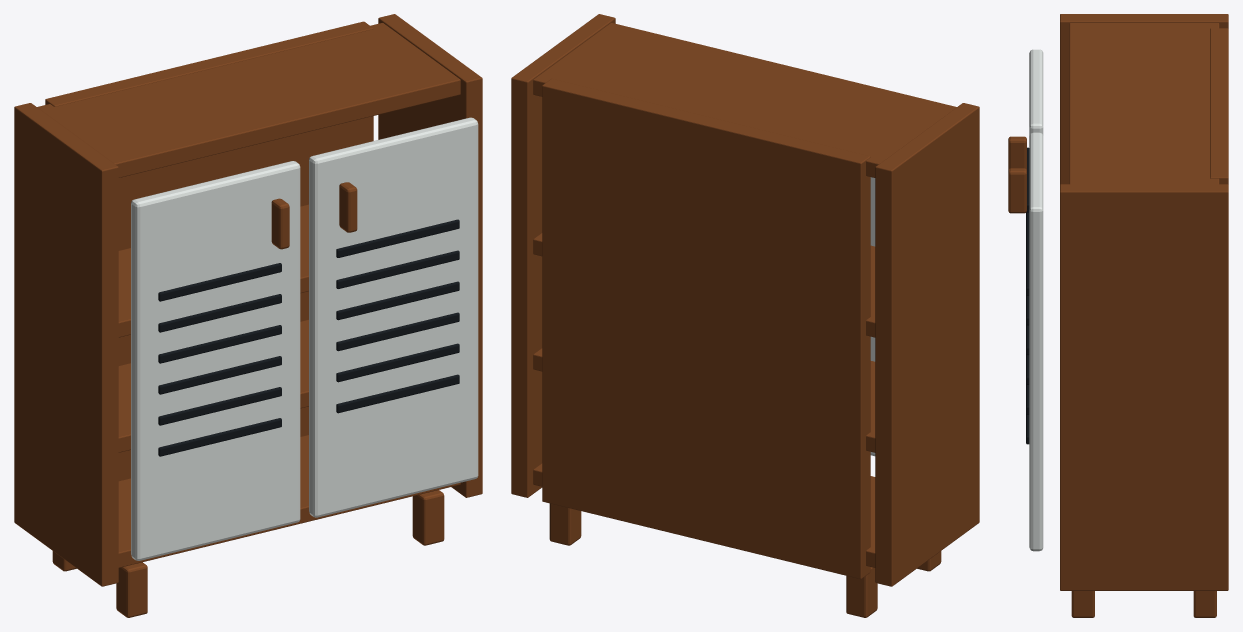
Rendered from edited.glb.
The picture shows the model from 3 angles, left to right: view 1: azimuth 30°, elevation 25°; view 2: azimuth 150°, elevation 25°; view 3: azimuth 270°, elevation 25°; orthographic projection. The views are drawn at different scales.
Visible parts, largest first — view 1: DOOR_Frame.001, DOOR_Frame, BODY_Side.001, BODY_Shelf, BODY_Back, BODY_Side, BODY_Shelf.001, BODY_Shelf.002, BODY_Shelf.003, FOOT.002, FOOT, VENT_Inset.002 (+13 smaller); view 2: BODY_Back, BODY_Side.001, BODY_Shelf, BODY_Side, FOOT.001, FOOT.003, BODY_Shelf.001, BODY_Shelf.002, BODY_Shelf.003; view 3: BODY_Side, BODY_Shelf, DOOR_Frame.001, BODY_Side.001, BODY_Back, DOOR_Frame, HANDLE.001, FOOT.002, FOOT.003, HANDLE.
Boxes of the visible parts, x1,y1,x2,y2 form: DOOR_Frame.001: (309,117,478,517); DOOR_Frame: (131,161,300,560); BODY_Side.001: (14,103,118,586); BODY_Shelf: (37,23,460,177); BODY_Back: (45,21,373,481); BODY_Side: (378,14,482,497); BODY_Shelf.001: (118,435,460,567); BODY_Shelf.002: (118,320,308,452); BODY_Shelf.003: (118,204,308,337); FOOT.002: (412,490,444,545); FOOT: (116,562,147,617); VENT_Inset.002: (158,356,281,394); BODY_Back: (542,79,870,579); BODY_Side.001: (875,103,979,586); BODY_Shelf: (533,23,956,177); BODY_Side: (511,14,615,497); FOOT.001: (846,567,877,617); FOOT.003: (549,503,581,545); BODY_Shelf.001: (533,463,875,567); BODY_Shelf.002: (533,348,875,452); BODY_Shelf.003: (533,233,875,337); BODY_Side: (1060,184,1228,590); BODY_Shelf: (1069,23,1219,184); DOOR_Frame.001: (1029,132,1043,551); BODY_Side.001: (1060,14,1228,184); BODY_Back: (1210,28,1228,184); DOOR_Frame: (1029,49,1043,135); HANDLE.001: (1008,168,1026,213); FOOT.002: (1071,591,1094,617); FOOT.003: (1193,591,1216,617); HANDLE: (1008,136,1026,170).
Size of the model in its own units: 0.9 by 1.04 by 0.47.
